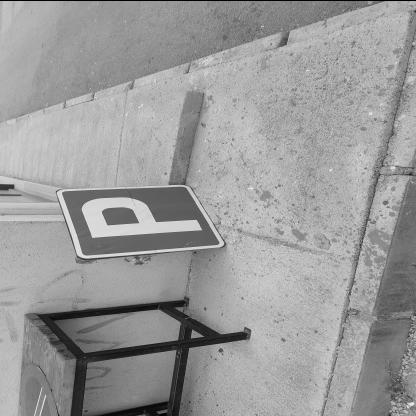Parking-Sign: (56, 183, 229, 261)
